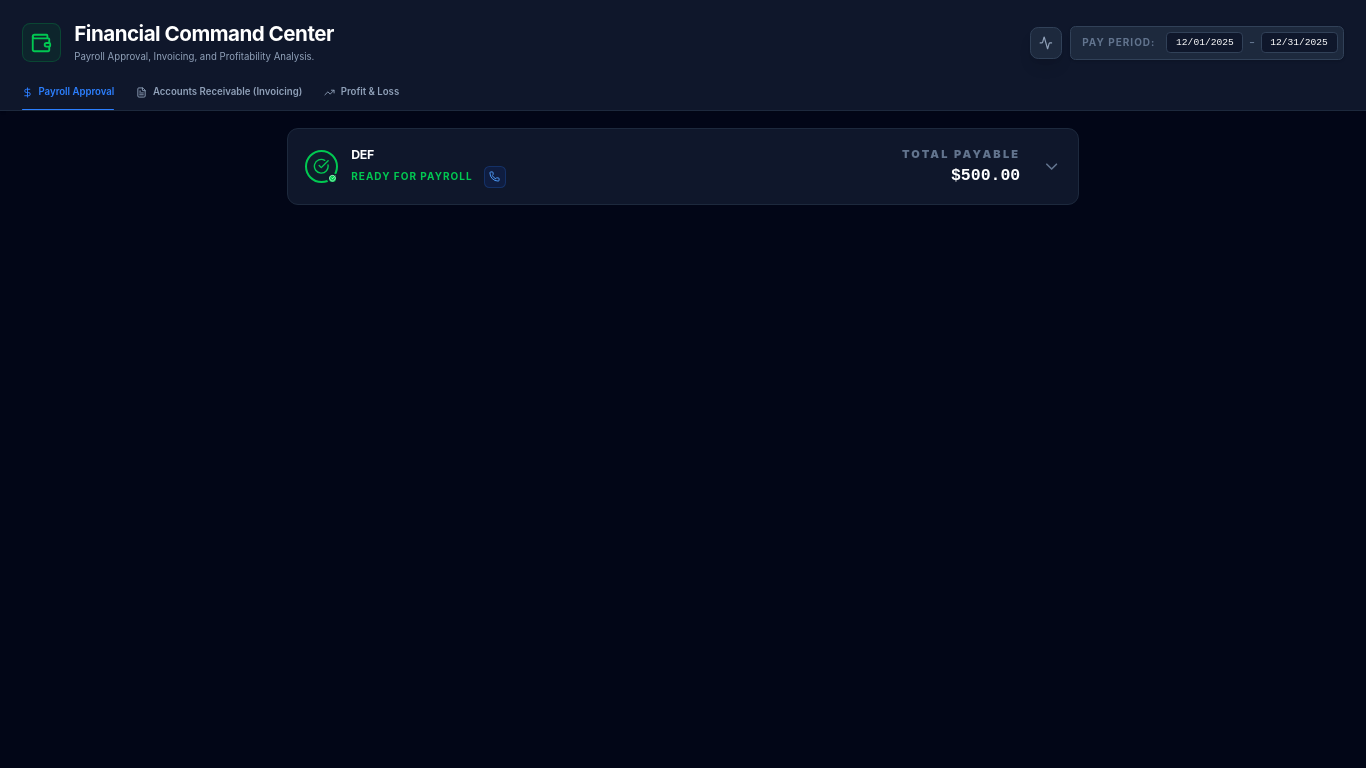
it: Settlements deep coverage › pay model calculations › default pay model fallback
Click the heading "Def".
click(363, 154)  # box [351, 147, 374, 162]
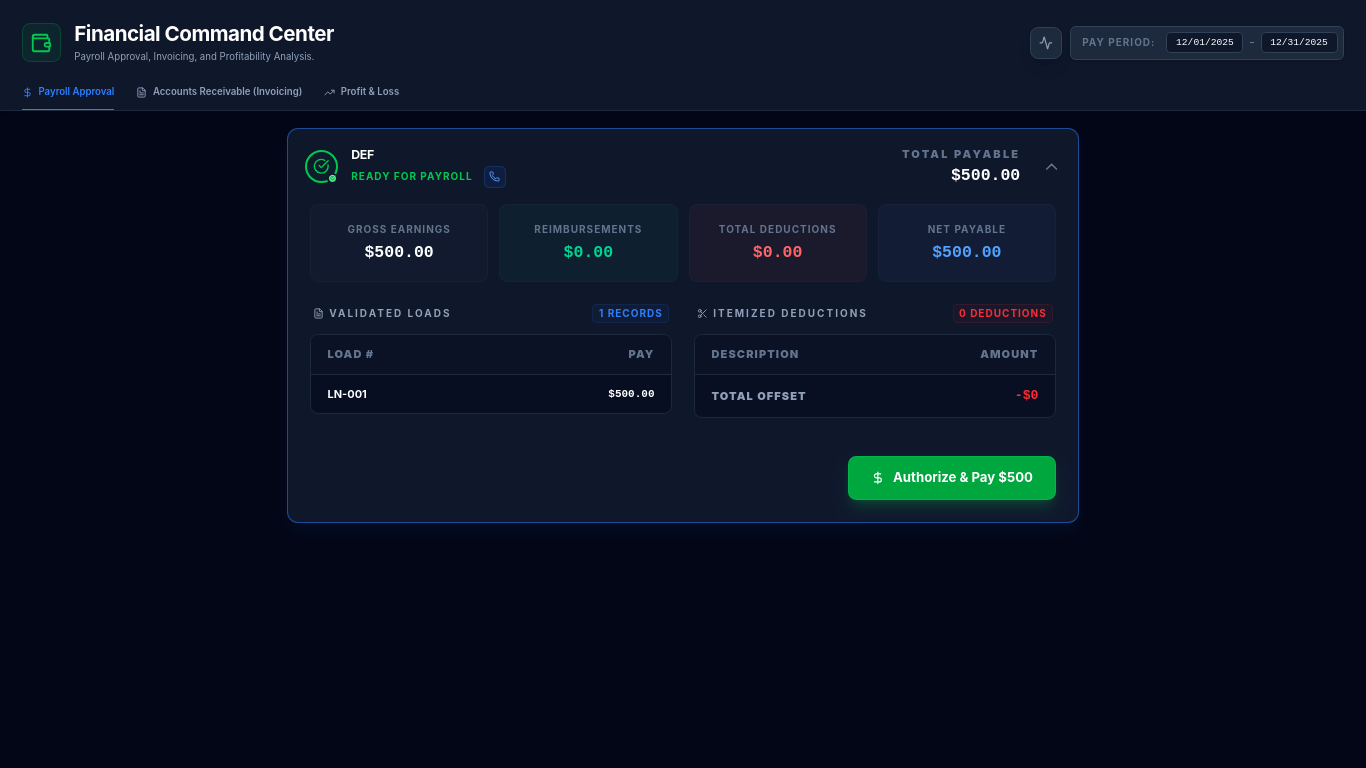
Now the text "Gross Earnings" is shown, box [347, 222, 451, 237]
